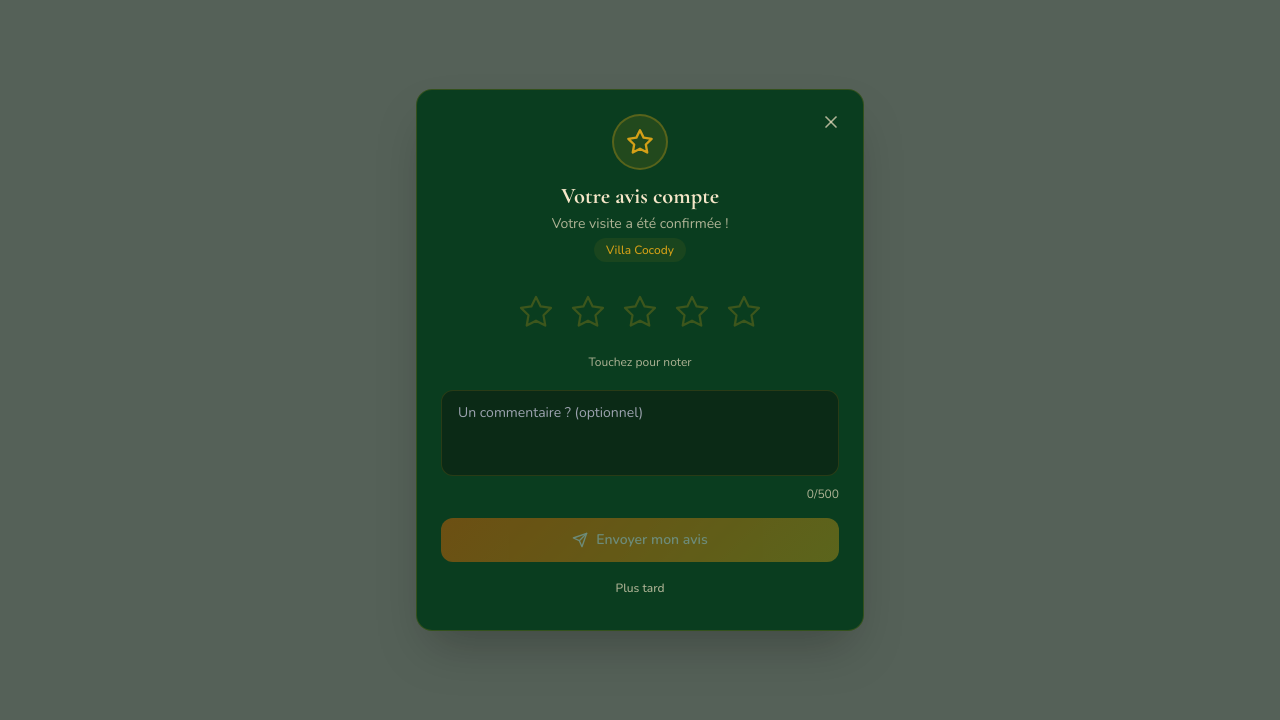
Test: SatisfactionModal › le bouton Envoyer est activé après sélection d'une étoile
Click the button named "étoile" at (692, 312), box [670,290,714,334]
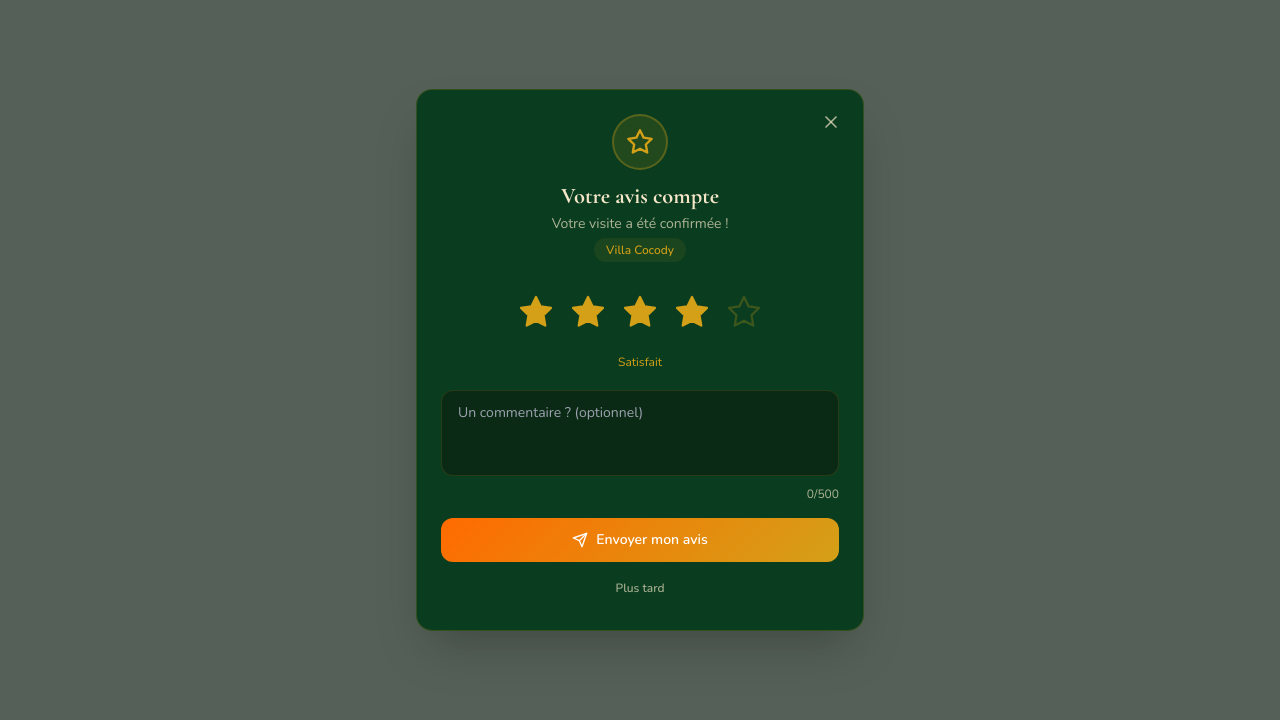
Expected: the button "Envoyer mon avis" is enabled, [441,518,839,562]
